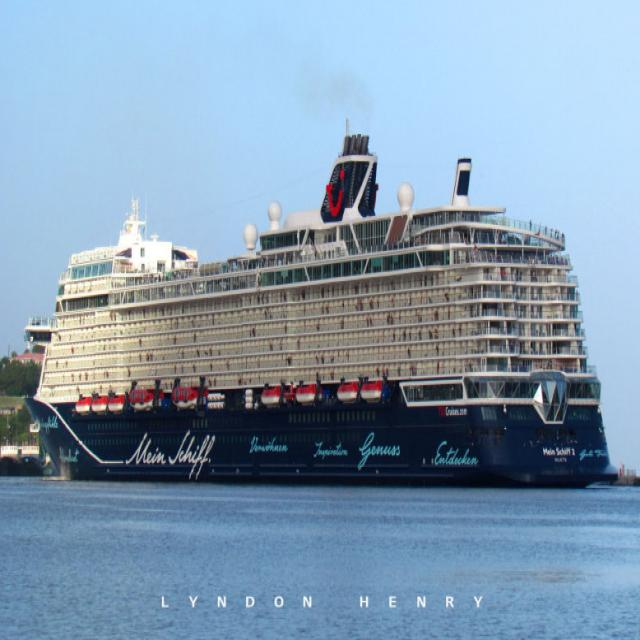cruises: (18, 131, 624, 503)
